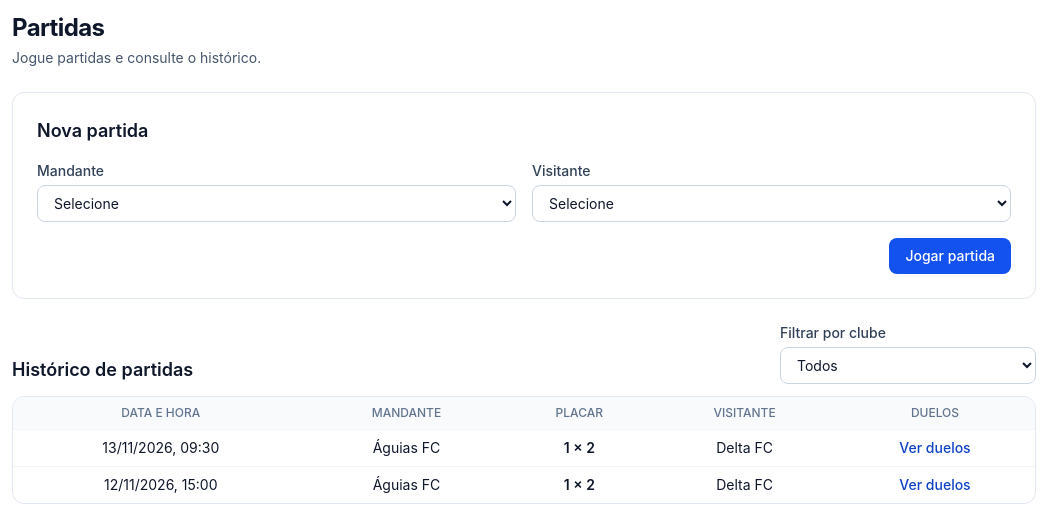
MatchesPage › lists the history in the API order and filters by club
Expected: the text "13/11/2026, 09:30" is shown, [13,430,308,466]
Select "Delta FC" in the dropdown labelled "Filtrar por clube" at (908, 366), box [780,347,1036,384]
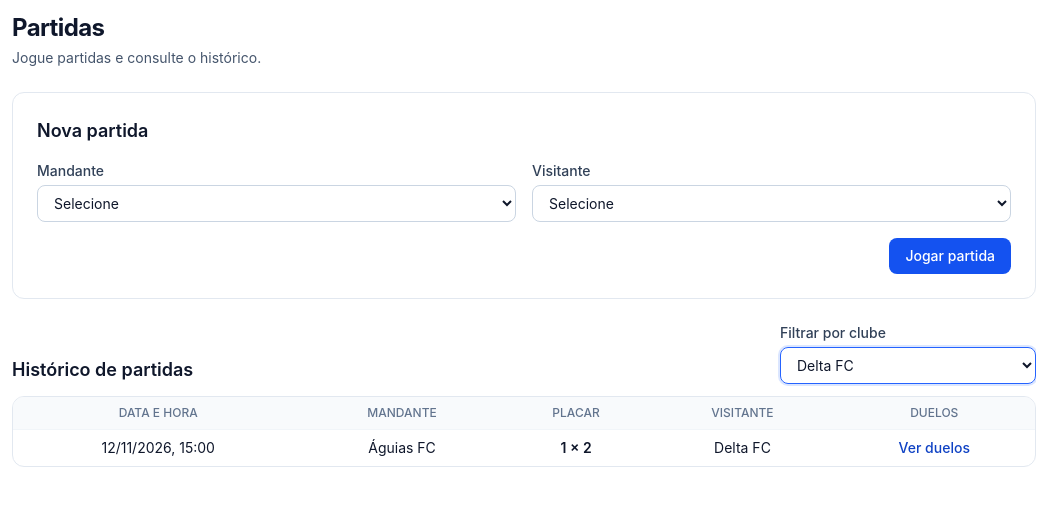
Expected: the text "12/11/2026, 15:00" is shown, [13,430,303,466]
Result: the text "13/11/2026, 09:30" is gone
